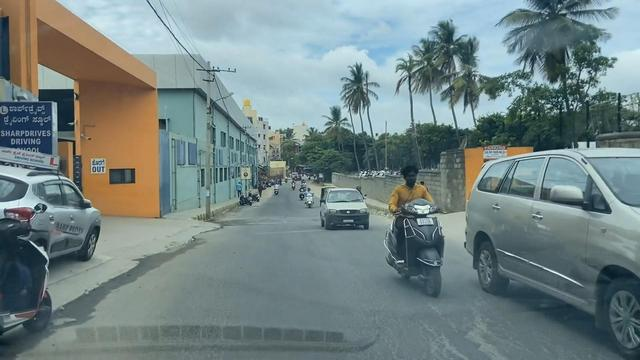LMV: (311, 185, 374, 235)
